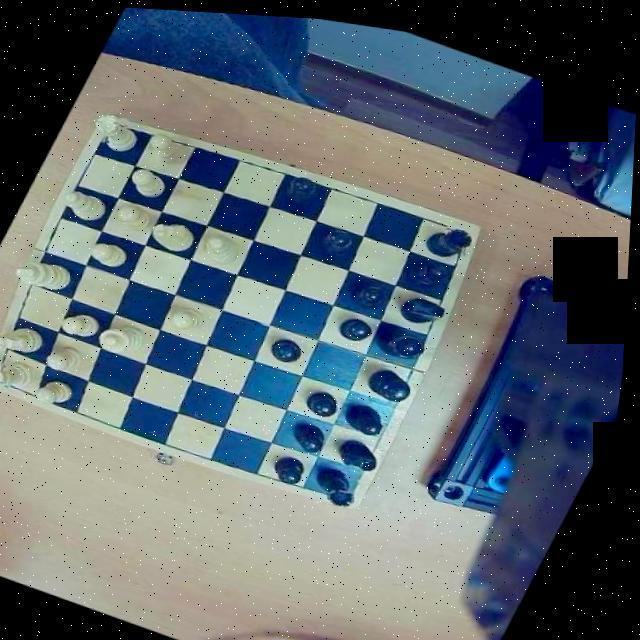chess-table-corners: (438, 210, 484, 253), (93, 109, 137, 148), (331, 465, 372, 505), (0, 358, 25, 394)
